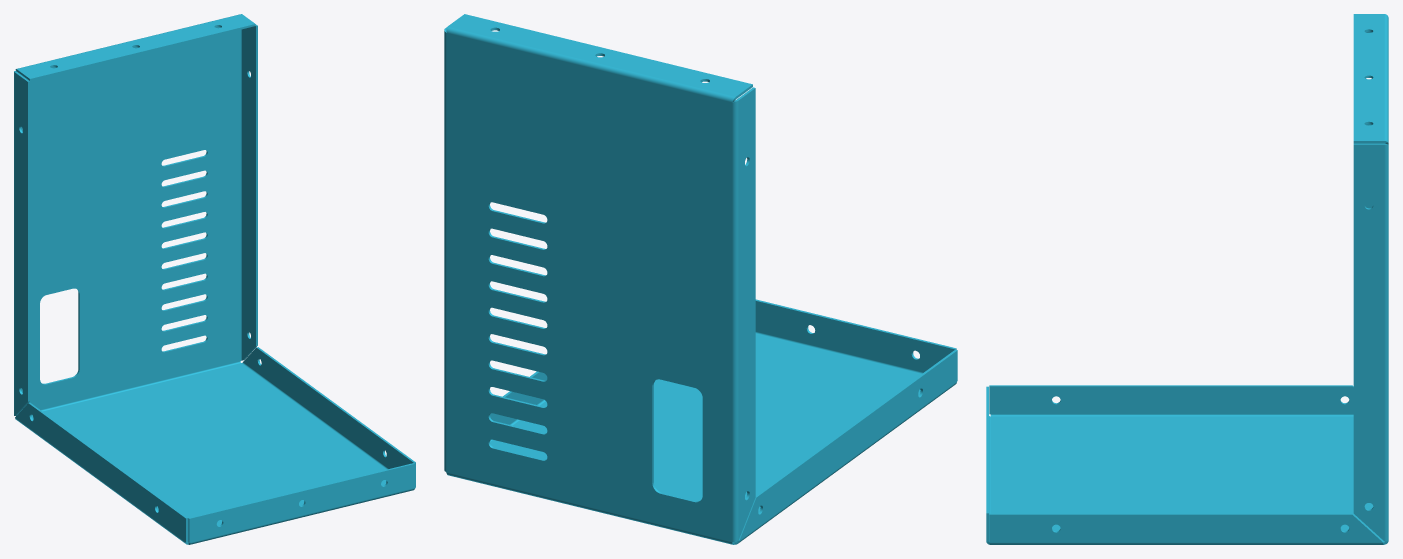
3 views of the same model, side by side, from view 1: azimuth 30°, elevation 25°; view 2: azimuth 150°, elevation 25°; view 3: azimuth 270°, elevation 25° (orthographic). The views are drawn at different scales.
Visible parts, largest first — view 1: Part1; view 2: Part1; view 3: Part1.
Part boxes in pixels (x1,y1,x2,y2): Part1: (14, 14, 415, 544); Part1: (444, 14, 957, 544); Part1: (986, 14, 1388, 544).
Size of the model in its own units: 0.175 by 0.255 by 0.23.
